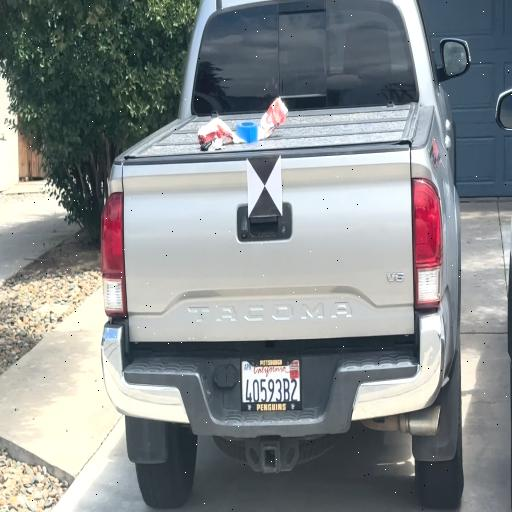target: (247, 156, 282, 217)
